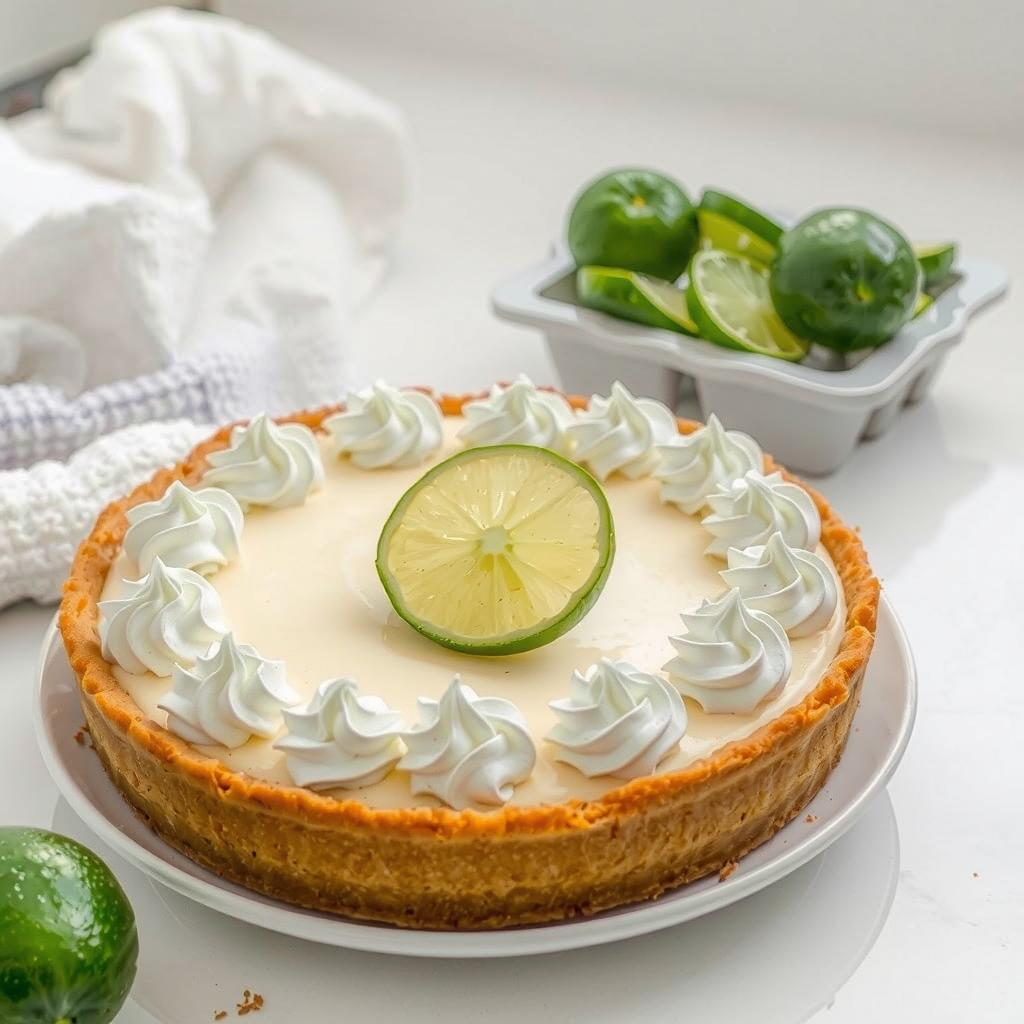pie: (43, 377, 896, 930)
